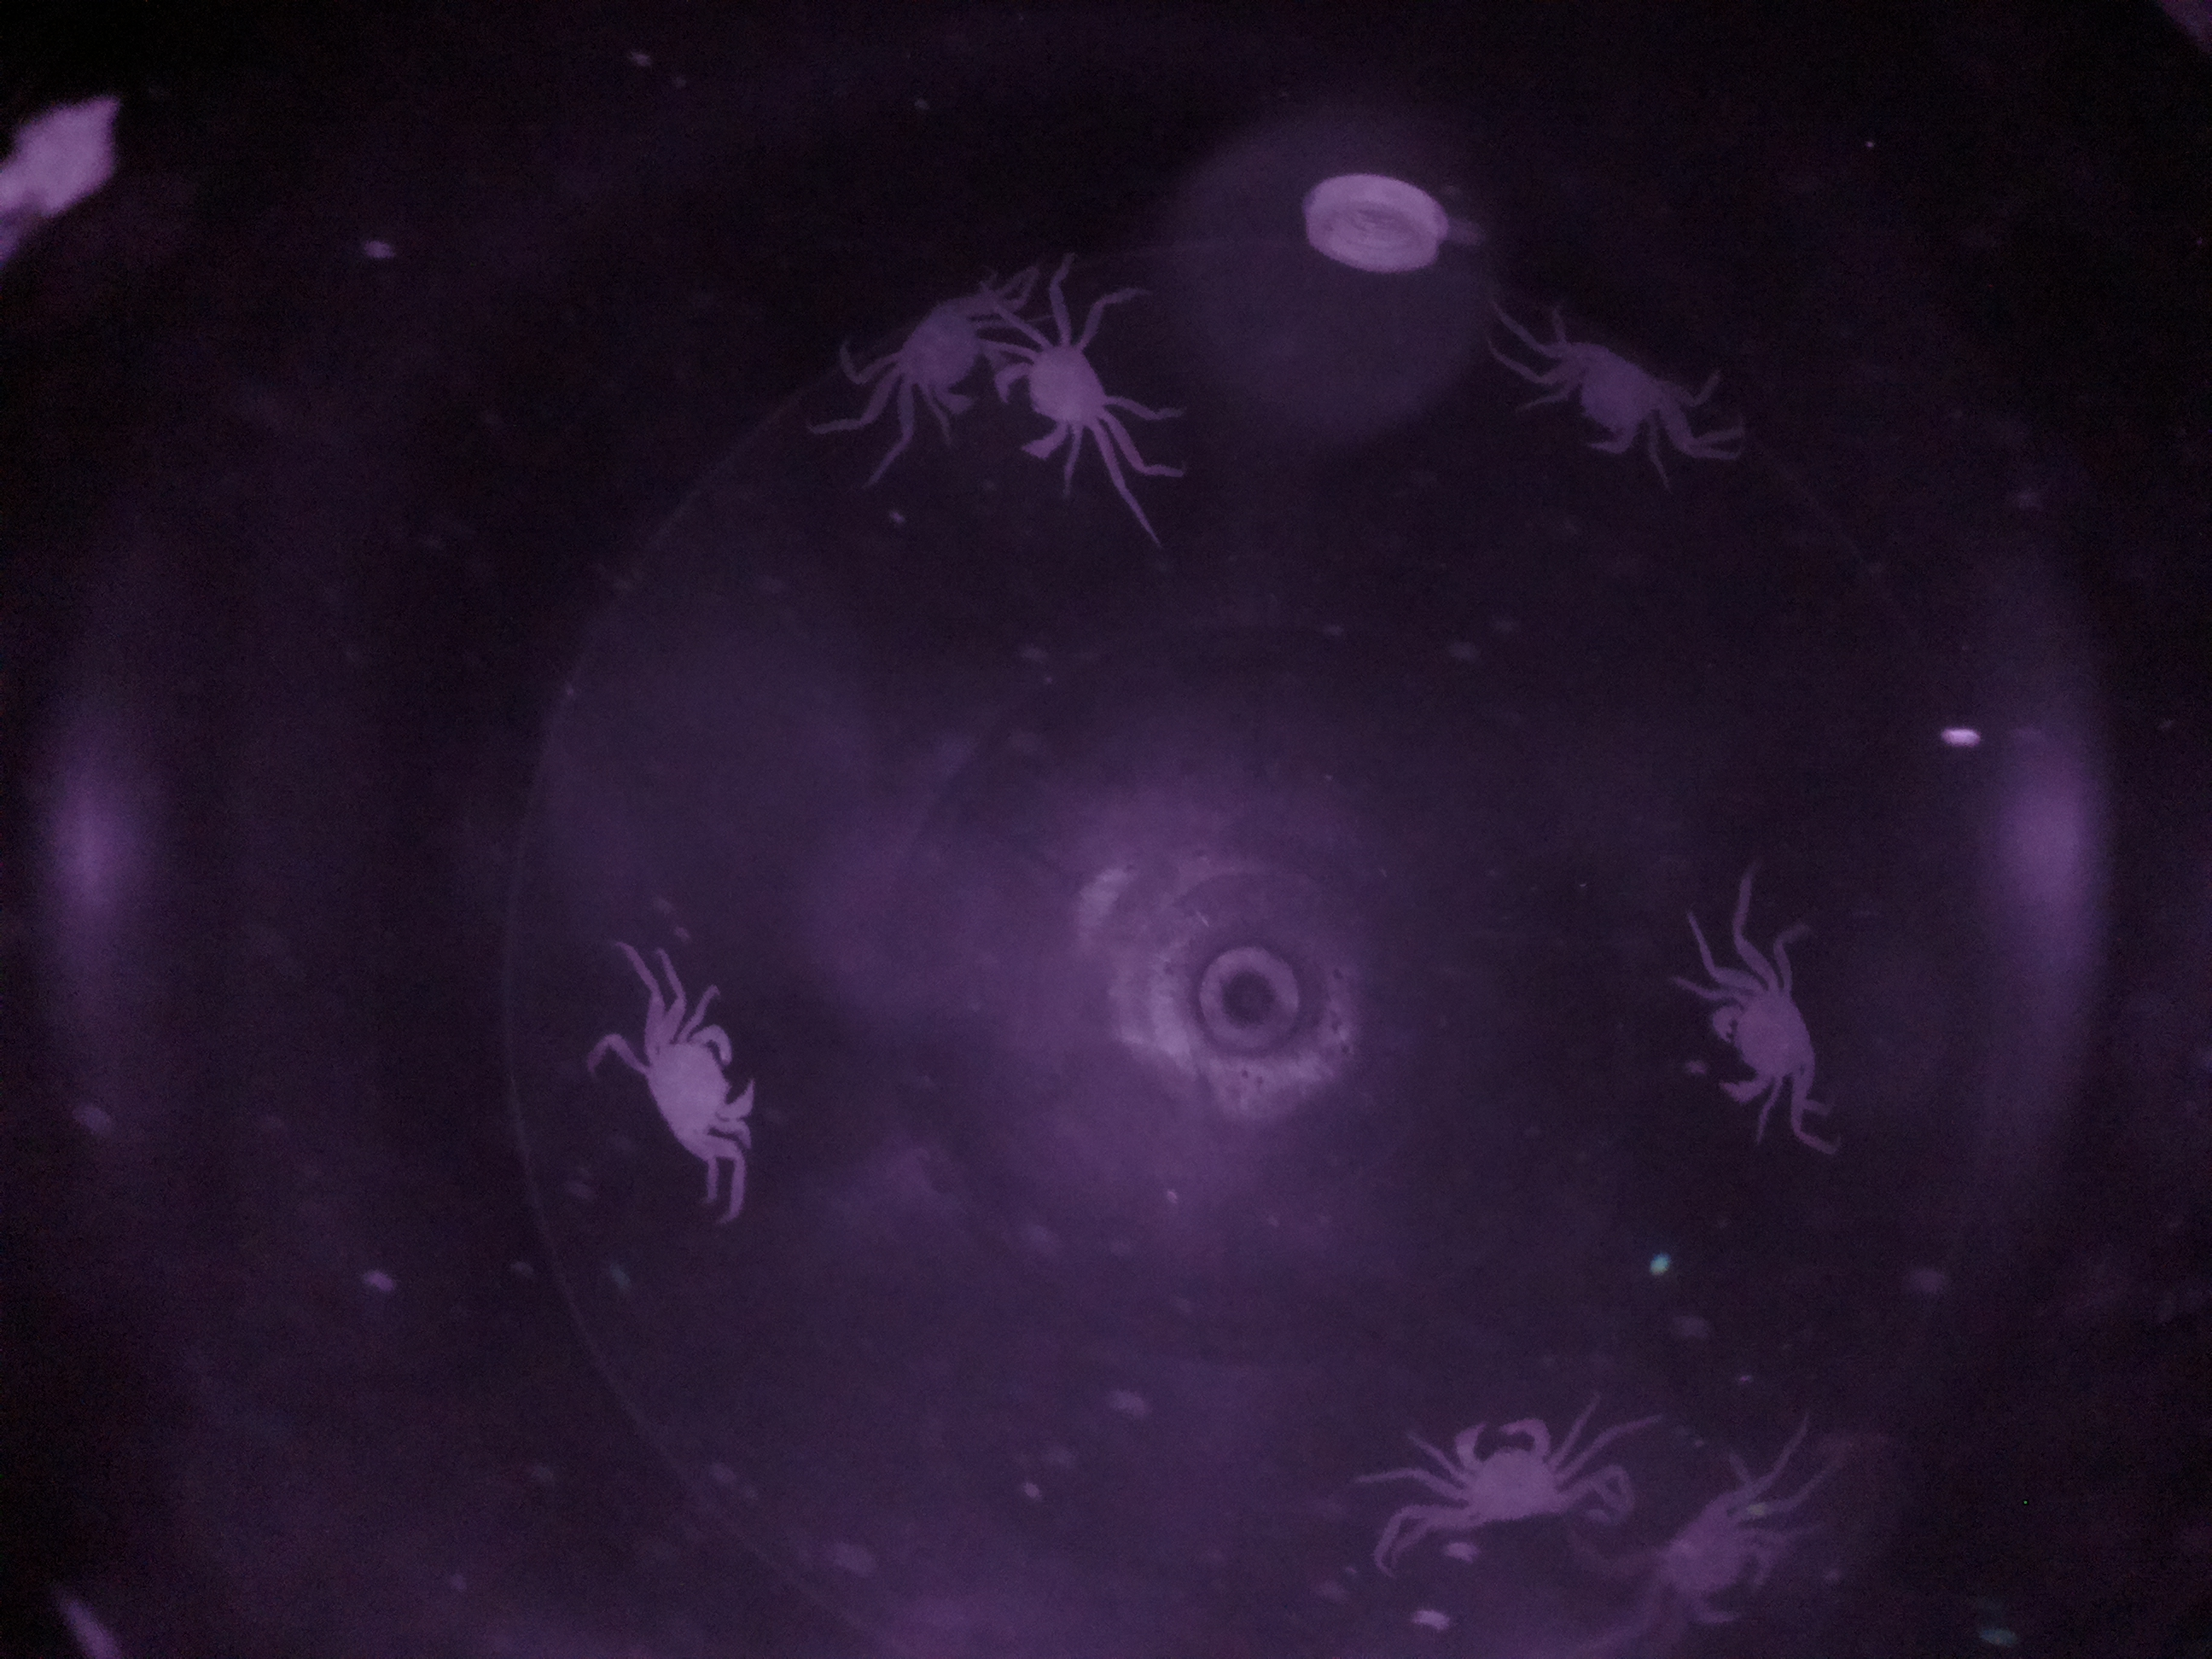Crab: (601, 997, 773, 1176), (1683, 950, 1836, 1127), (1637, 1467, 1791, 1638), (974, 303, 1127, 467), (1421, 1394, 1583, 1540)
